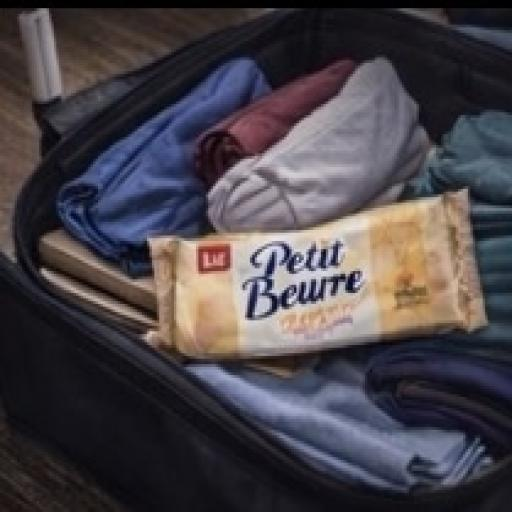petit-beurre: (118, 174, 507, 399)
